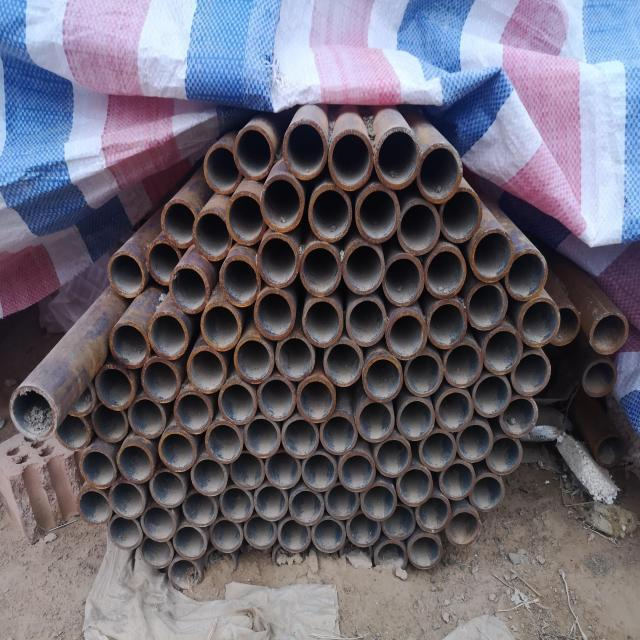pipe: (328, 127, 376, 191), (416, 143, 463, 203), (376, 125, 420, 189), (8, 386, 58, 442), (281, 119, 327, 179), (356, 184, 401, 242), (260, 174, 305, 231), (340, 241, 385, 296), (299, 241, 342, 298), (470, 228, 514, 283), (308, 185, 351, 241), (398, 198, 441, 254), (257, 233, 300, 288), (439, 187, 482, 242), (505, 247, 548, 302), (218, 254, 261, 308), (234, 122, 274, 180), (253, 288, 296, 341), (382, 254, 425, 307), (192, 208, 234, 262), (517, 297, 562, 347), (425, 245, 467, 298), (385, 310, 428, 360), (200, 301, 242, 352), (170, 262, 211, 314), (225, 190, 265, 243), (466, 281, 509, 330), (302, 297, 343, 348), (148, 310, 189, 360), (346, 298, 387, 348), (109, 321, 151, 369), (187, 346, 229, 394), (427, 299, 467, 349), (323, 338, 363, 388), (95, 363, 136, 411), (234, 337, 275, 385), (482, 328, 523, 376), (363, 355, 404, 403), (296, 376, 337, 424), (201, 143, 240, 193), (141, 356, 182, 403), (275, 334, 316, 381), (161, 198, 199, 248), (588, 310, 630, 355), (511, 350, 552, 396), (108, 251, 146, 299), (444, 341, 482, 389), (173, 389, 213, 434), (257, 375, 296, 421), (145, 239, 183, 286), (217, 381, 257, 425), (404, 351, 443, 396), (319, 410, 357, 456), (127, 396, 166, 440), (356, 399, 395, 443), (473, 373, 511, 418), (396, 398, 435, 441), (499, 395, 538, 438), (158, 430, 197, 472), (91, 401, 129, 444), (205, 421, 243, 464), (282, 415, 320, 458), (456, 420, 494, 463), (338, 450, 376, 492), (359, 480, 397, 522), (396, 465, 434, 507), (117, 442, 154, 485), (244, 415, 281, 458), (436, 388, 473, 431), (148, 469, 187, 509), (53, 409, 91, 450), (374, 436, 412, 477), (109, 478, 146, 520), (486, 433, 523, 475), (79, 448, 117, 488), (419, 431, 457, 471), (301, 450, 338, 491), (229, 449, 266, 489), (264, 449, 301, 489), (469, 472, 506, 512), (415, 494, 452, 534), (439, 460, 475, 501), (550, 301, 581, 348), (406, 532, 443, 571), (446, 508, 482, 548), (582, 358, 618, 398), (76, 487, 113, 525), (191, 458, 228, 496), (323, 483, 360, 521), (64, 376, 96, 419), (140, 504, 176, 542), (253, 482, 288, 521), (289, 487, 324, 526), (107, 514, 143, 550), (242, 513, 278, 549), (183, 490, 218, 527), (209, 516, 244, 553), (219, 486, 254, 523), (311, 516, 346, 553), (346, 511, 381, 548), (173, 525, 209, 560), (277, 517, 312, 553), (374, 540, 409, 576), (380, 505, 416, 540), (166, 557, 203, 590), (594, 433, 627, 469), (139, 536, 174, 569), (337, 538, 374, 568), (205, 548, 240, 577), (268, 542, 302, 568)
